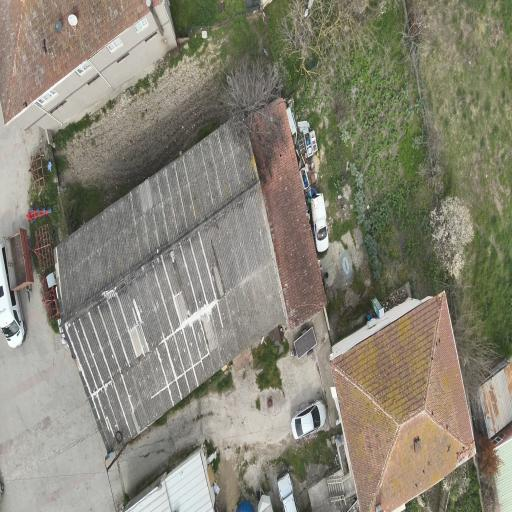car: (0, 244, 25, 347), (291, 400, 326, 439), (311, 194, 328, 252), (278, 469, 297, 511)
